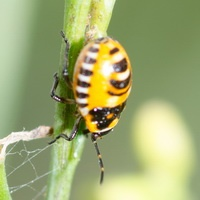insect: (49, 32, 130, 183)
